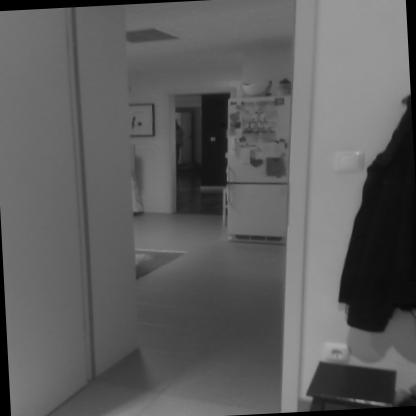open: (0, 0, 339, 416), (160, 85, 242, 224)
